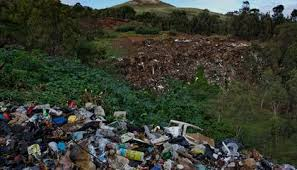garbage: (11, 120, 213, 170), (1, 101, 141, 170), (82, 141, 281, 169)
